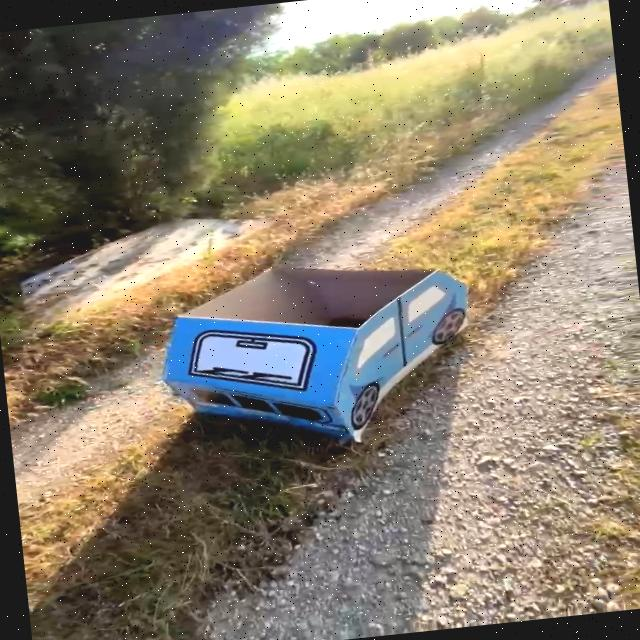blue_car: (125, 233, 534, 460)
